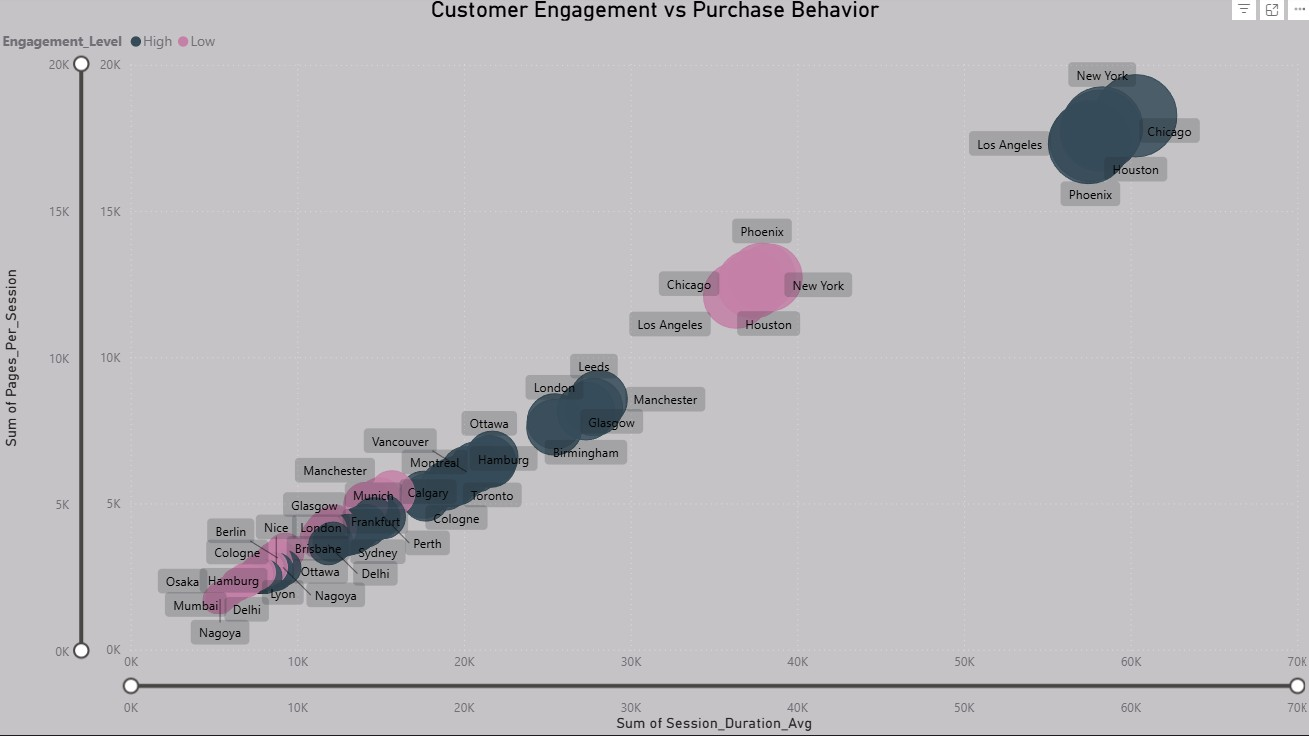

What the dashboard file says about the page in this screenshot:
{"tool":"powerbi","page":{"name":"Customer_Engagement vs Purchase_Behavior","canvas":[1280,720],"ordinal":1},"visuals":[{"type":"scatterChart","title":"Customer Engagement  vs  Purchase Behavior","fields":{"X":["Sum(customer_behavior_analysis.Session_Duration_Avg)"],"Y":["Sum(customer_behavior_analysis.Pages_Per_Session)"],"Size":["Sum(customer_behavior_analysis.Total_Purchases)"],"Category":["customer_behavior_analysis.City"],"Series":["customer_behavior_analysis.Engagement_Level"]},"box":[0,0,1280,720.1],"z":0}]}

Visuals, with their boxes on the page's 1280x720 design canvas (x1, y1, x2, y2). These are canvas units, not pixel positions in the 1309x736 screenshot, which may show the page scaled, cropped or inside an application window:
"Customer Engagement  vs  Purchase Behavior" scatterChart: (0,0,1280,720)
